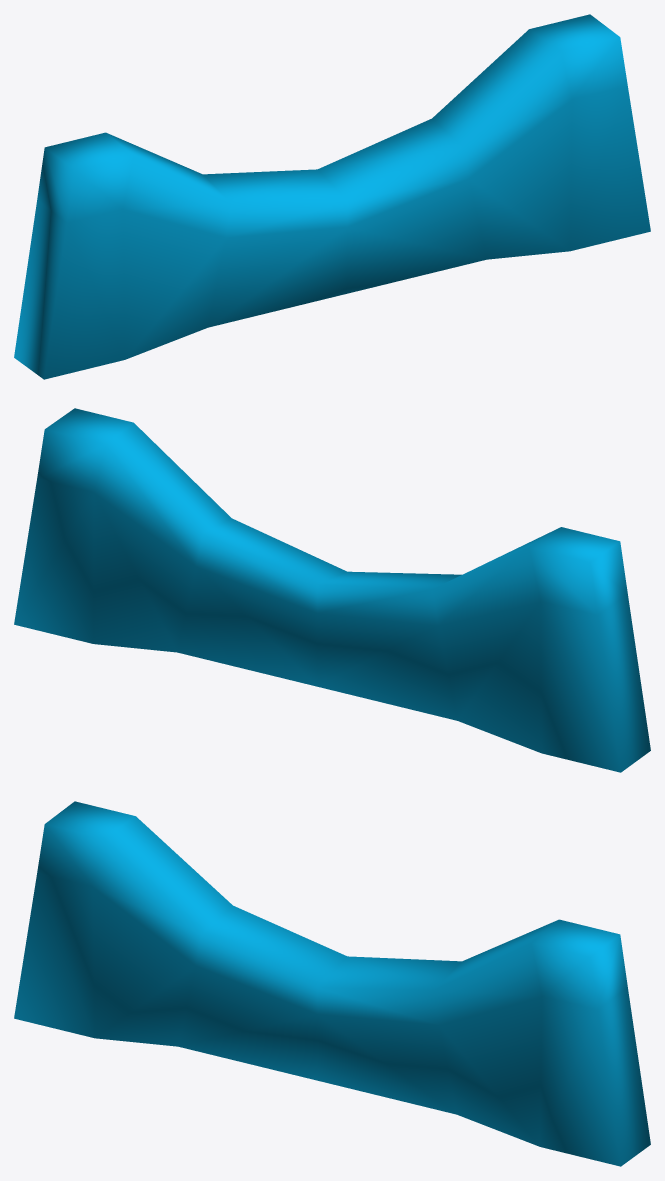
File: Barrel_01_Base.fbx
3 views of the same model, one above another, from view 1: azimuth 30°, elevation 25°; view 2: azimuth 150°, elevation 25°; view 3: azimuth 330°, elevation 25° (orthographic).
Parts seen in each view (by area): view 1: Barrel_01_Base; view 2: Barrel_01_Base; view 3: Barrel_01_Base.
Boxes of the visible parts, x1,y1,x2,y2 form: Barrel_01_Base: (14,14,650,379); Barrel_01_Base: (14,408,650,772); Barrel_01_Base: (14,801,650,1166).
Size of the model in its own units: 57.55 by 18.37 by 4.94.
